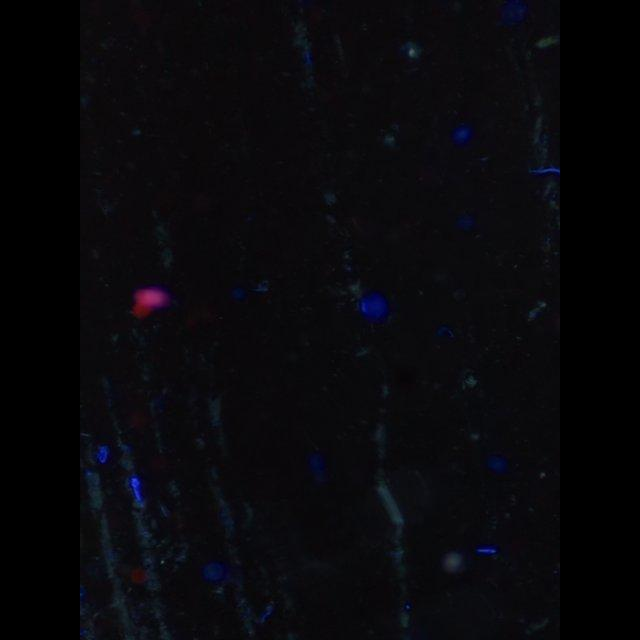microbeads: (444, 553, 461, 573)
